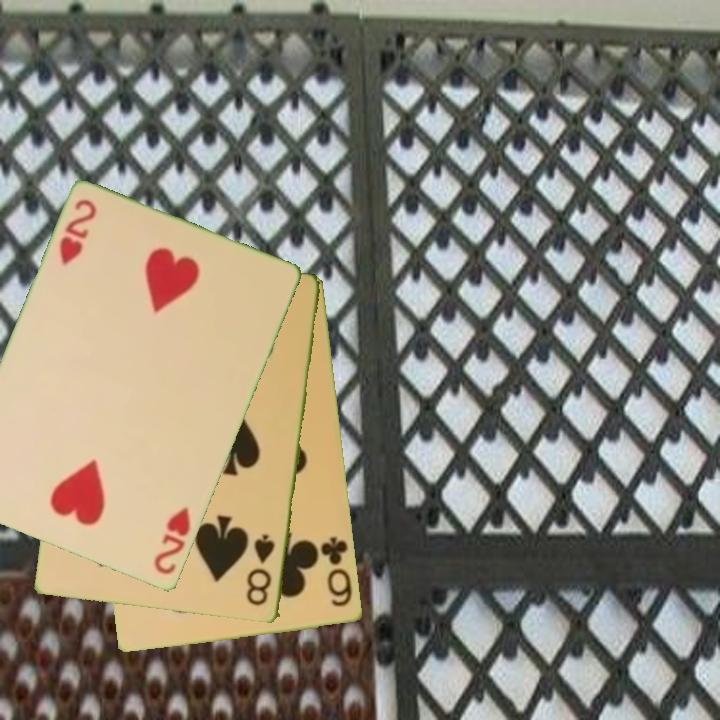2h: (150, 503, 194, 579), (55, 196, 100, 269)
6c: (317, 533, 356, 611)
8s: (243, 531, 278, 610)
